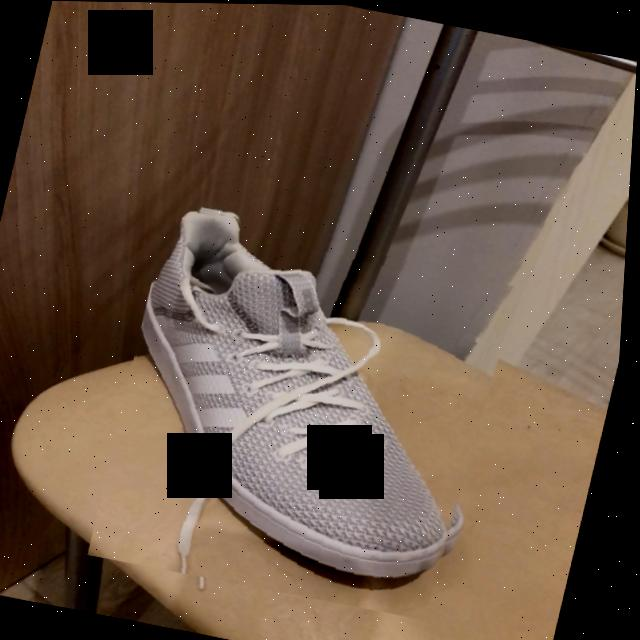shoe: (144, 209, 458, 588)
